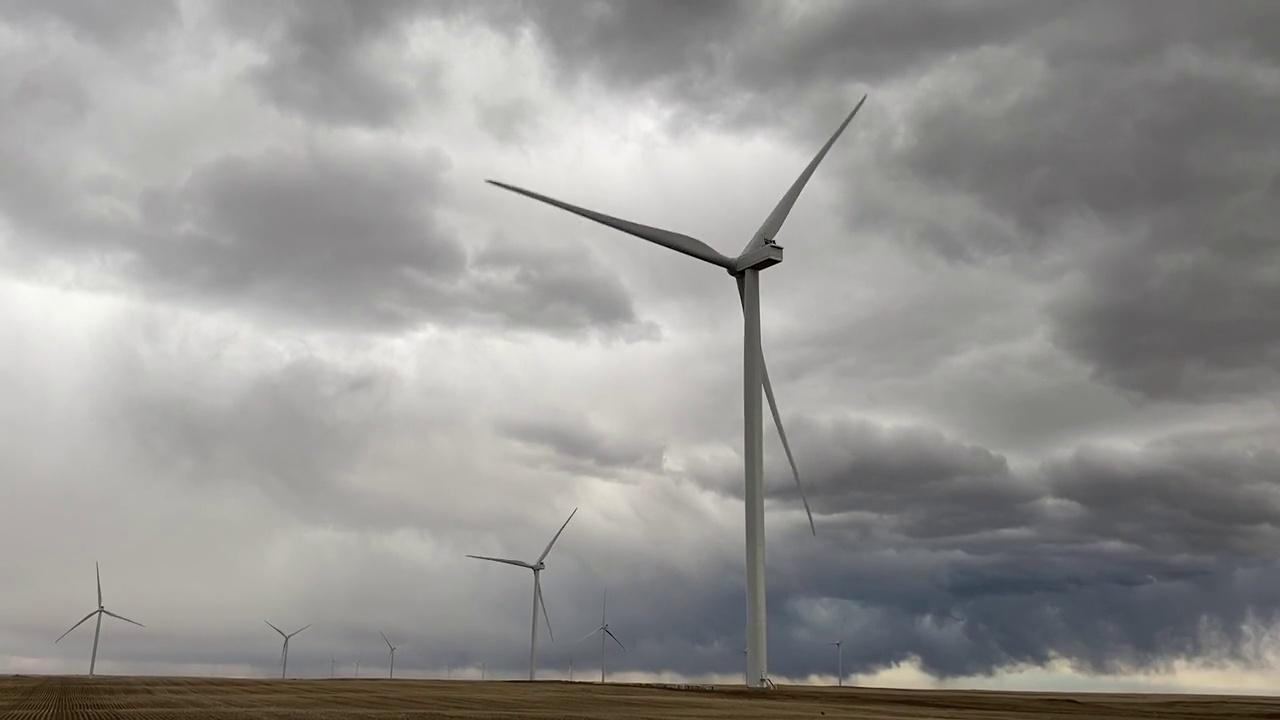turbine: (529, 0, 970, 693), (491, 497, 598, 693), (39, 571, 153, 685), (252, 601, 322, 691), (580, 593, 632, 697), (374, 631, 417, 696), (826, 620, 860, 699), (434, 661, 471, 698), (322, 660, 352, 693), (344, 659, 375, 689), (472, 661, 498, 693)
